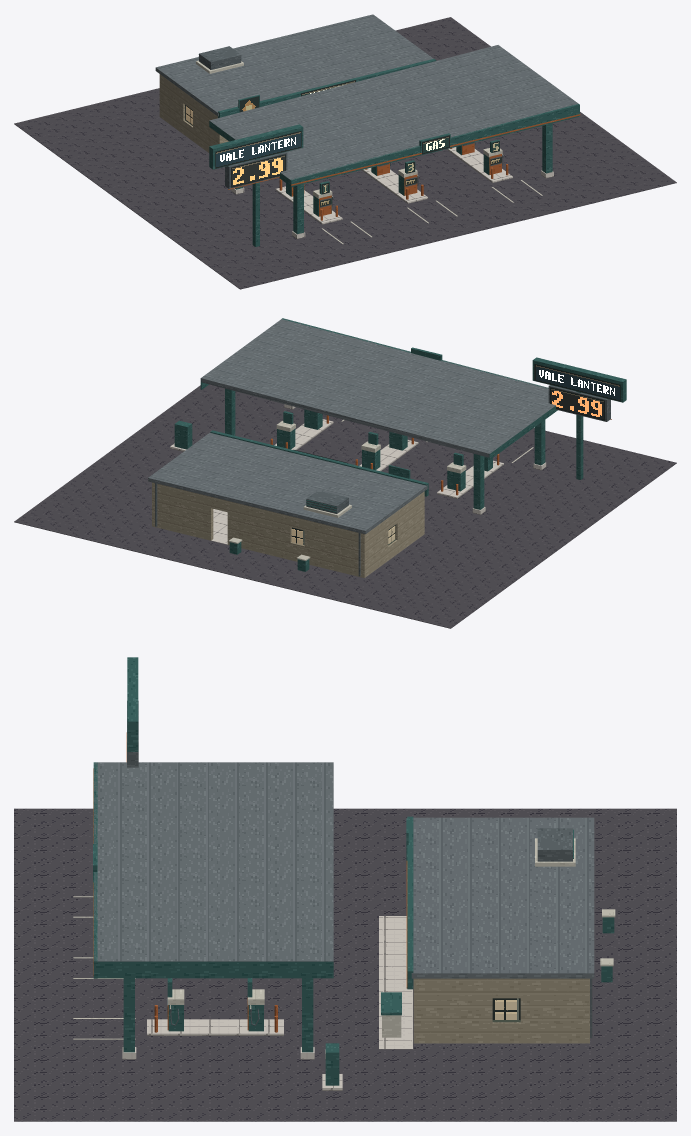
Rendered from vale-lantern-1975.glb.
3 views of the same model, one above another, from view 1: azimuth 30°, elevation 25°; view 2: azimuth 150°, elevation 25°; view 3: azimuth 270°, elevation 25° (orthographic). The views are drawn at different scales.
Visible parts, largest first — view 1: lot, fuel_canopy, shell, fuel_pumps, roadside_sign, sign_name_street, price_face_street, pump_3, pump_1, pump_5; view 2: lot, fuel_canopy, shell, roadside_sign, fuel_pumps, sign_name_exit, price_face_exit, interior, pump_2, pump_4, pump_6, air_machine; view 3: lot, fuel_canopy, shell, fuel_pumps, roadside_sign, ice_chest, air_machine, pump_5, pump_6.
Part boxes in pixels (bbox=[...]): lot: bbox=[14, 17, 676, 289]; fuel_canopy: bbox=[209, 45, 580, 238]; shell: bbox=[155, 14, 436, 152]; fuel_pumps: bbox=[275, 147, 512, 224]; roadside_sign: bbox=[209, 124, 303, 246]; sign_name_street: bbox=[215, 131, 301, 168]; price_face_street: bbox=[231, 154, 285, 187]; pump_3: bbox=[398, 160, 418, 195]; pump_1: bbox=[313, 181, 333, 216]; pump_5: bbox=[483, 139, 503, 174]; lot: bbox=[14, 384, 676, 628]; fuel_canopy: bbox=[200, 318, 557, 514]; shell: bbox=[148, 430, 428, 577]; roadside_sign: bbox=[532, 357, 626, 479]; fuel_pumps: bbox=[270, 415, 503, 498]; sign_name_exit: bbox=[534, 364, 620, 401]; price_face_exit: bbox=[550, 387, 604, 420]; interior: bbox=[152, 509, 422, 578]; pump_2: bbox=[447, 452, 466, 491]; pump_4: bbox=[361, 432, 380, 469]; pump_6: bbox=[276, 411, 295, 449]; air_machine: bbox=[170, 420, 192, 451]; lot: bbox=[14, 808, 676, 1121]; fuel_canopy: bbox=[93, 762, 333, 1059]; shell: bbox=[406, 816, 594, 1043]; fuel_pumps: bbox=[147, 1005, 283, 1035]; roadside_sign: bbox=[126, 657, 138, 767]; ice_chest: bbox=[381, 992, 401, 1037]; air_machine: bbox=[322, 1043, 342, 1090]; pump_5: bbox=[167, 978, 184, 1031]; pump_6: bbox=[247, 978, 264, 1031].
Size of what is drawn, in the model's own units: 31.45 by 7.52 by 28.2.
Materials: 11 (11 with a texture image).
